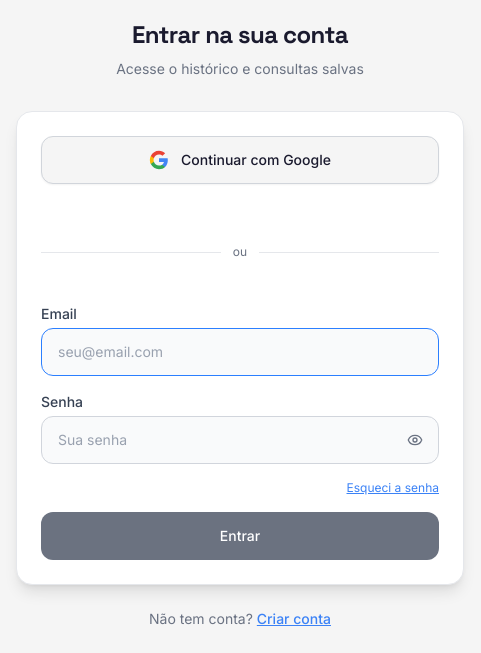
Scenario: LoginForm › Password Validation (Task 7.3) › shows error when password is empty on submit
In the field labelled "Email": coordinates (240, 352) [41,328,439,376], type "test@example.com"
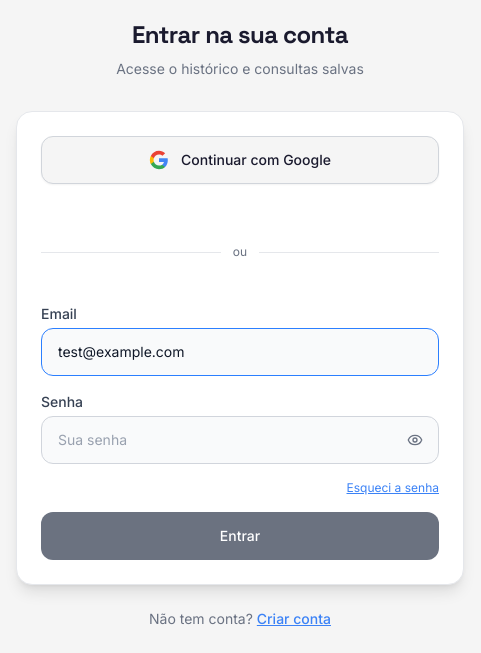
Click the button "Entrar": coordinates (240, 536) [41,512,439,560]
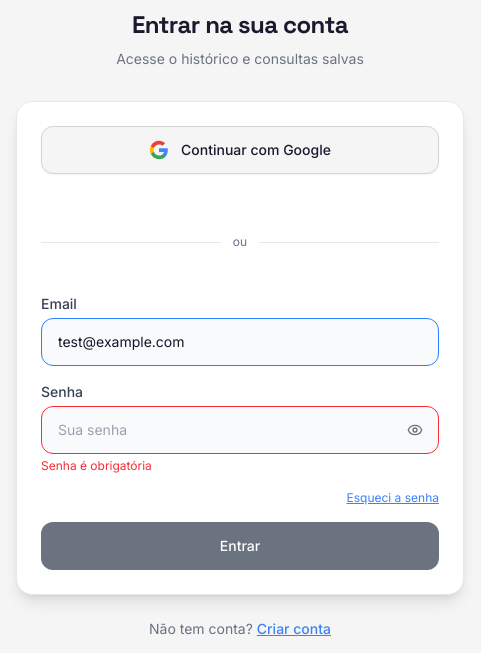
Expected: the message "Senha é obrigatória" is shown, [41,458,152,473]
